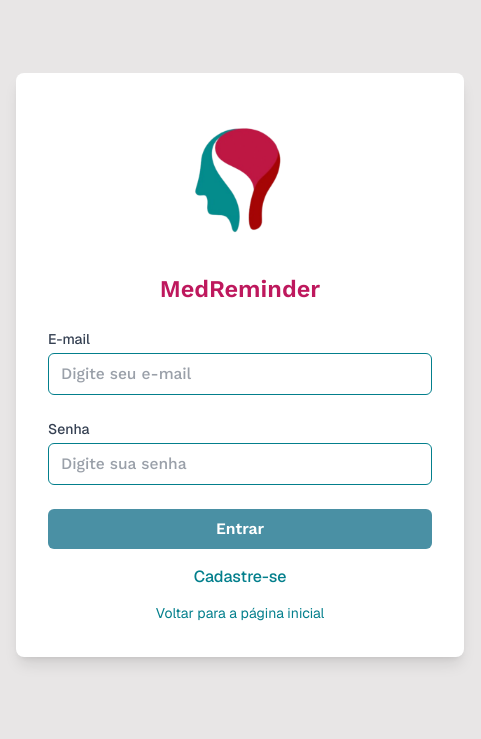
Scenario: sessão real — TEST-01 TEST-02 › IT-02 TEST-02 falha no perfil apresenta erro e executa logout limpando sessão prévia
Type "ana@example.test" into the field labelled "E-mail" at [240, 374], box x1=48 y1=353 x2=432 y2=395
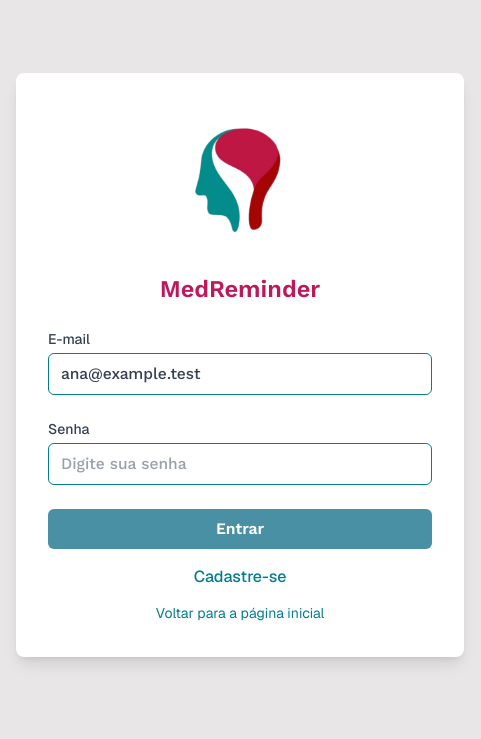
Type "senha-sintetica" into the password field labelled "Senha" at [240, 464], box x1=48 y1=443 x2=432 y2=485
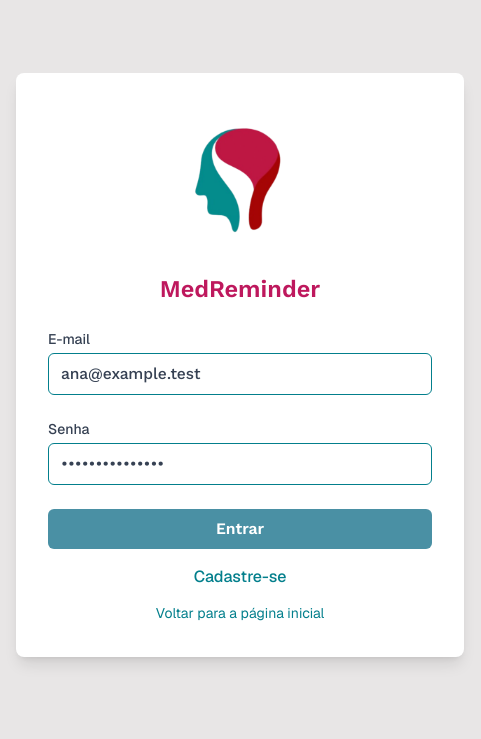
Click the button "Entrar" at [240, 529], box x1=48 y1=509 x2=432 y2=549
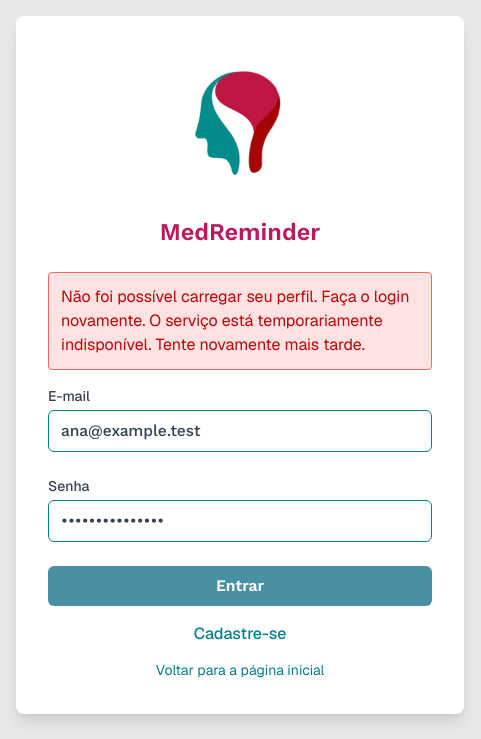
Expected: the button "Entrar" is enabled, x1=48 y1=566 x2=432 y2=606
Expected: the text "Não foi possível carregar seu perfil. Faça o login novamente." is shown, x1=61 y1=286 x2=410 y2=355
